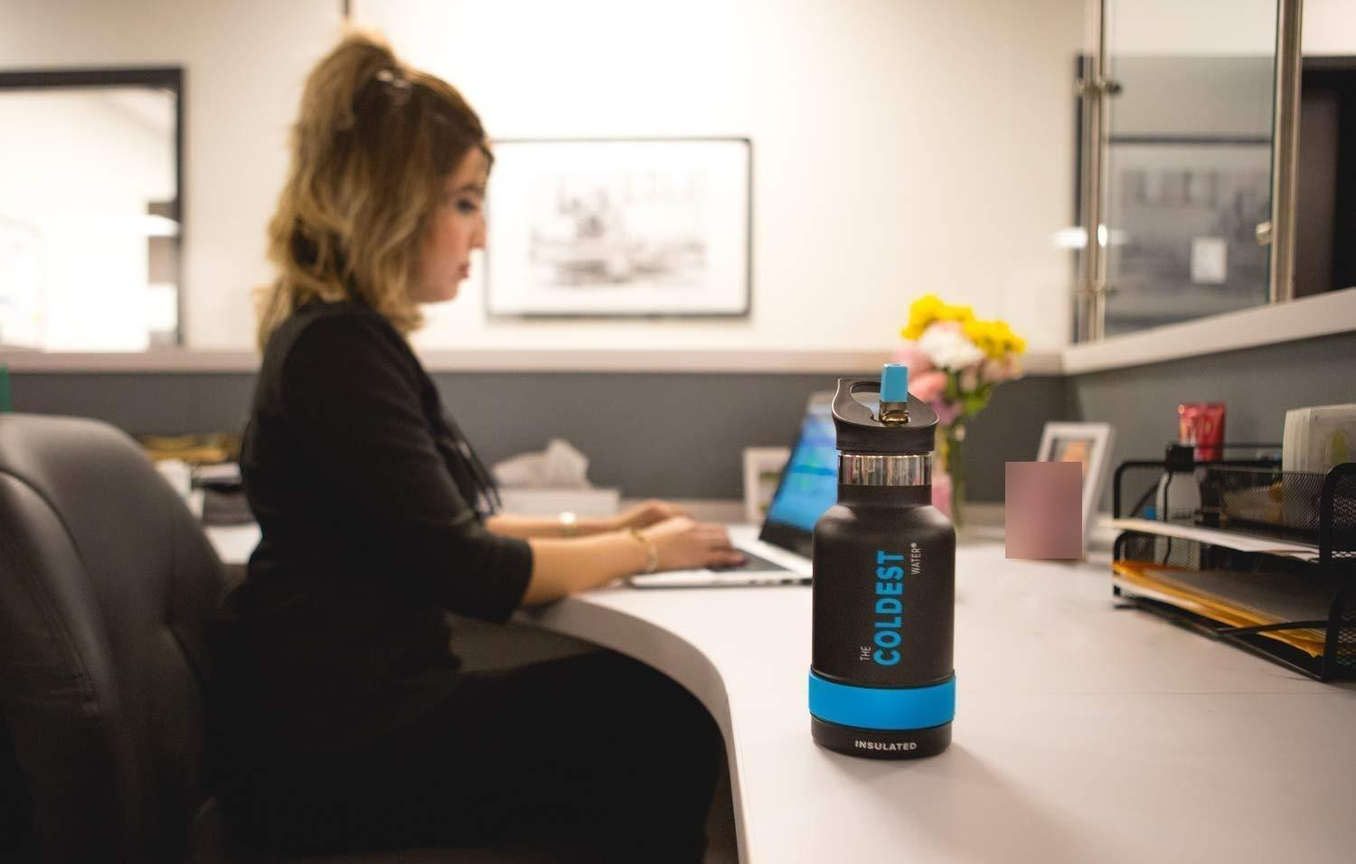gym bottle: (805, 360, 962, 766)
